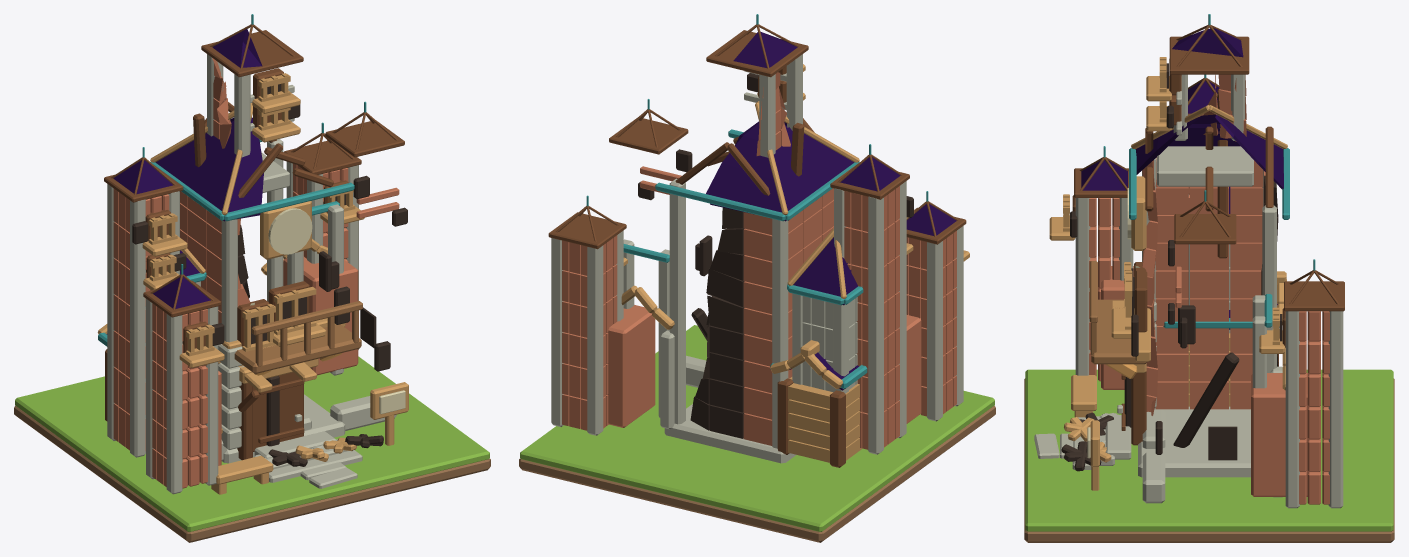
Rendered from town_hall_l14_damaged_LOD0.glb.
3 renders of one model, left to right at view 1: azimuth 30°, elevation 25°; view 2: azimuth 150°, elevation 25°; view 3: azimuth 270°, elevation 25°, orthographic. The views are drawn at different scales.
Parts seen in each view (by area): view 1: town_hall_l14_damaged_grass_tile, town_hall_l14_damaged_earth_tile, town_hall_l14_damaged_corner_reinforcement.024, town_hall_l14_damaged_corner_reinforcement.036, town_hall_l14_damaged_premium_balcony_floor, town_hall_l14_damaged_vertical_corner_connector, town_hall_l14_damaged_hip_roof_shingle.011, town_hall_l14_damaged_corner_reinforcement, town_hall_l14_damaged_door_recess, town_hall_l14_damaged_corner_reinforcement.025, town_hall_l14_damaged_central_spire_cornice, town_hall_l14_damaged_right_spire_cornice (+35 smaller); view 2: town_hall_l14_damaged_grass_tile, town_hall_l14_damaged_earth_tile, town_hall_l14_damaged_vertical_corner_connector, town_hall_l14_damaged_corner_reinforcement.025, town_hall_l14_damaged_corner_reinforcement.003, town_hall_l14_damaged_corner_reinforcement.033, town_hall_l14_damaged_corner_reinforcement.001, town_hall_l14_damaged_corner_reinforcement.037, town_hall_l14_damaged_hip_roof_shingle.011, town_hall_l14_damaged_corner_reinforcement.035, town_hall_l14_damaged_hip_roof_shingle.008, town_hall_l14_damaged_foundation (+48 smaller); view 3: town_hall_l14_damaged_grass_tile, town_hall_l14_damaged_earth_tile, town_hall_l14_damaged_foundation, town_hall_l14_damaged_vertical_corner_connector, town_hall_l14_damaged_surviving_tower_course, town_hall_l14_damaged_corner_reinforcement.035, town_hall_l14_damaged_corner_reinforcement.034, town_hall_l14_damaged_corner_reinforcement.038, town_hall_l14_damaged_central_spire_cornice, town_hall_l14_damaged_right_spire_cornice, town_hall_l14_damaged_rear_right_spire_cornice, town_hall_l14_damaged_premium_balcony_floor (+63 smaller).
Part boxes in pixels (x1,y1,x2,y2): town_hall_l14_damaged_grass_tile: [15, 356, 489, 531]; town_hall_l14_damaged_earth_tile: [14, 405, 490, 542]; town_hall_l14_damaged_corner_reinforcement.024: [130, 199, 145, 457]; town_hall_l14_damaged_corner_reinforcement.036: [166, 314, 182, 494]; town_hall_l14_damaged_premium_balcony_floor: [234, 324, 361, 373]; town_hall_l14_damaged_vertical_corner_connector: [283, 256, 358, 375]; town_hall_l14_damaged_hip_roof_shingle.011: [155, 145, 230, 220]; town_hall_l14_damaged_corner_reinforcement: [221, 219, 237, 342]; town_hall_l14_damaged_door_recess: [253, 372, 303, 451]; town_hall_l14_damaged_corner_reinforcement.025: [107, 184, 115, 440]; town_hall_l14_damaged_central_spire_cornice: [201, 30, 303, 77]; town_hall_l14_damaged_right_spire_cornice: [325, 120, 404, 157]; town_hall_l14_damaged_grass_tile: [520, 325, 994, 531]; town_hall_l14_damaged_earth_tile: [519, 405, 995, 542]; town_hall_l14_damaged_vertical_corner_connector: [607, 305, 655, 427]; town_hall_l14_damaged_corner_reinforcement.025: [867, 196, 883, 454]; town_hall_l14_damaged_corner_reinforcement.003: [669, 178, 685, 424]; town_hall_l14_damaged_corner_reinforcement.033: [587, 245, 603, 435]; town_hall_l14_damaged_corner_reinforcement.001: [772, 219, 788, 448]; town_hall_l14_damaged_corner_reinforcement.037: [926, 241, 942, 421]; town_hall_l14_damaged_hip_roof_shingle.011: [779, 145, 854, 220]; town_hall_l14_damaged_corner_reinforcement.035: [551, 238, 563, 426]; town_hall_l14_damaged_hip_roof_shingle.008: [706, 162, 785, 221]; town_hall_l14_damaged_foundation: [664, 404, 796, 463]; town_hall_l14_damaged_grass_tile: [1025, 369, 1393, 531]; town_hall_l14_damaged_earth_tile: [1024, 378, 1394, 542]; town_hall_l14_damaged_foundation: [1138, 406, 1250, 477]; town_hall_l14_damaged_vertical_corner_connector: [1251, 373, 1307, 496]; town_hall_l14_damaged_surviving_tower_course: [1157, 146, 1253, 186]; town_hall_l14_damaged_corner_reinforcement.035: [1328, 311, 1343, 508]; town_hall_l14_damaged_corner_reinforcement.034: [1285, 311, 1299, 508]; town_hall_l14_damaged_corner_reinforcement.038: [1075, 198, 1090, 375]; town_hall_l14_damaged_central_spire_cornice: [1169, 36, 1249, 74]; town_hall_l14_damaged_right_spire_cornice: [1174, 214, 1236, 244]; town_hall_l14_damaged_rear_right_spire_cornice: [1284, 281, 1344, 311]; town_hall_l14_damaged_premium_balcony_floor: [1091, 299, 1147, 364].
Size of the model in its own units: 3.6 by 4.85 by 3.6.
